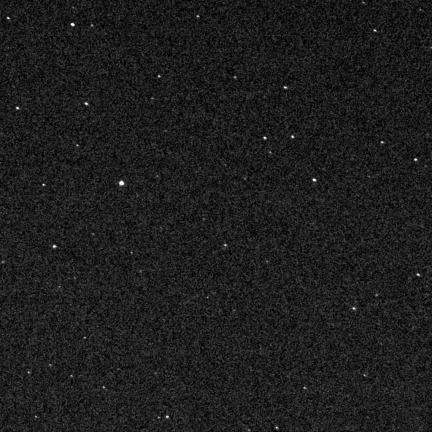blob: (119, 181, 124, 186), (16, 107, 20, 111), (291, 135, 295, 139), (264, 137, 268, 141), (417, 273, 421, 277), (158, 75, 162, 79), (414, 158, 418, 162), (234, 76, 238, 80), (196, 15, 200, 19), (42, 184, 46, 187), (352, 307, 356, 310), (84, 102, 88, 105), (71, 23, 75, 26), (76, 144, 80, 147), (381, 141, 385, 144), (7, 17, 11, 20), (313, 179, 316, 182), (53, 245, 56, 248), (91, 25, 94, 27), (284, 87, 287, 89), (166, 416, 169, 418)
